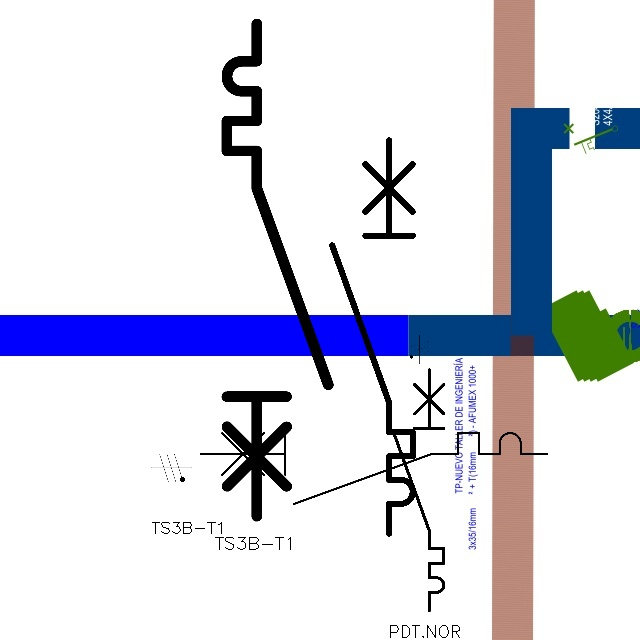interruptor_termomagnetico: (214, 11, 341, 529), (322, 130, 423, 544), (192, 424, 556, 513), (388, 363, 450, 617)
